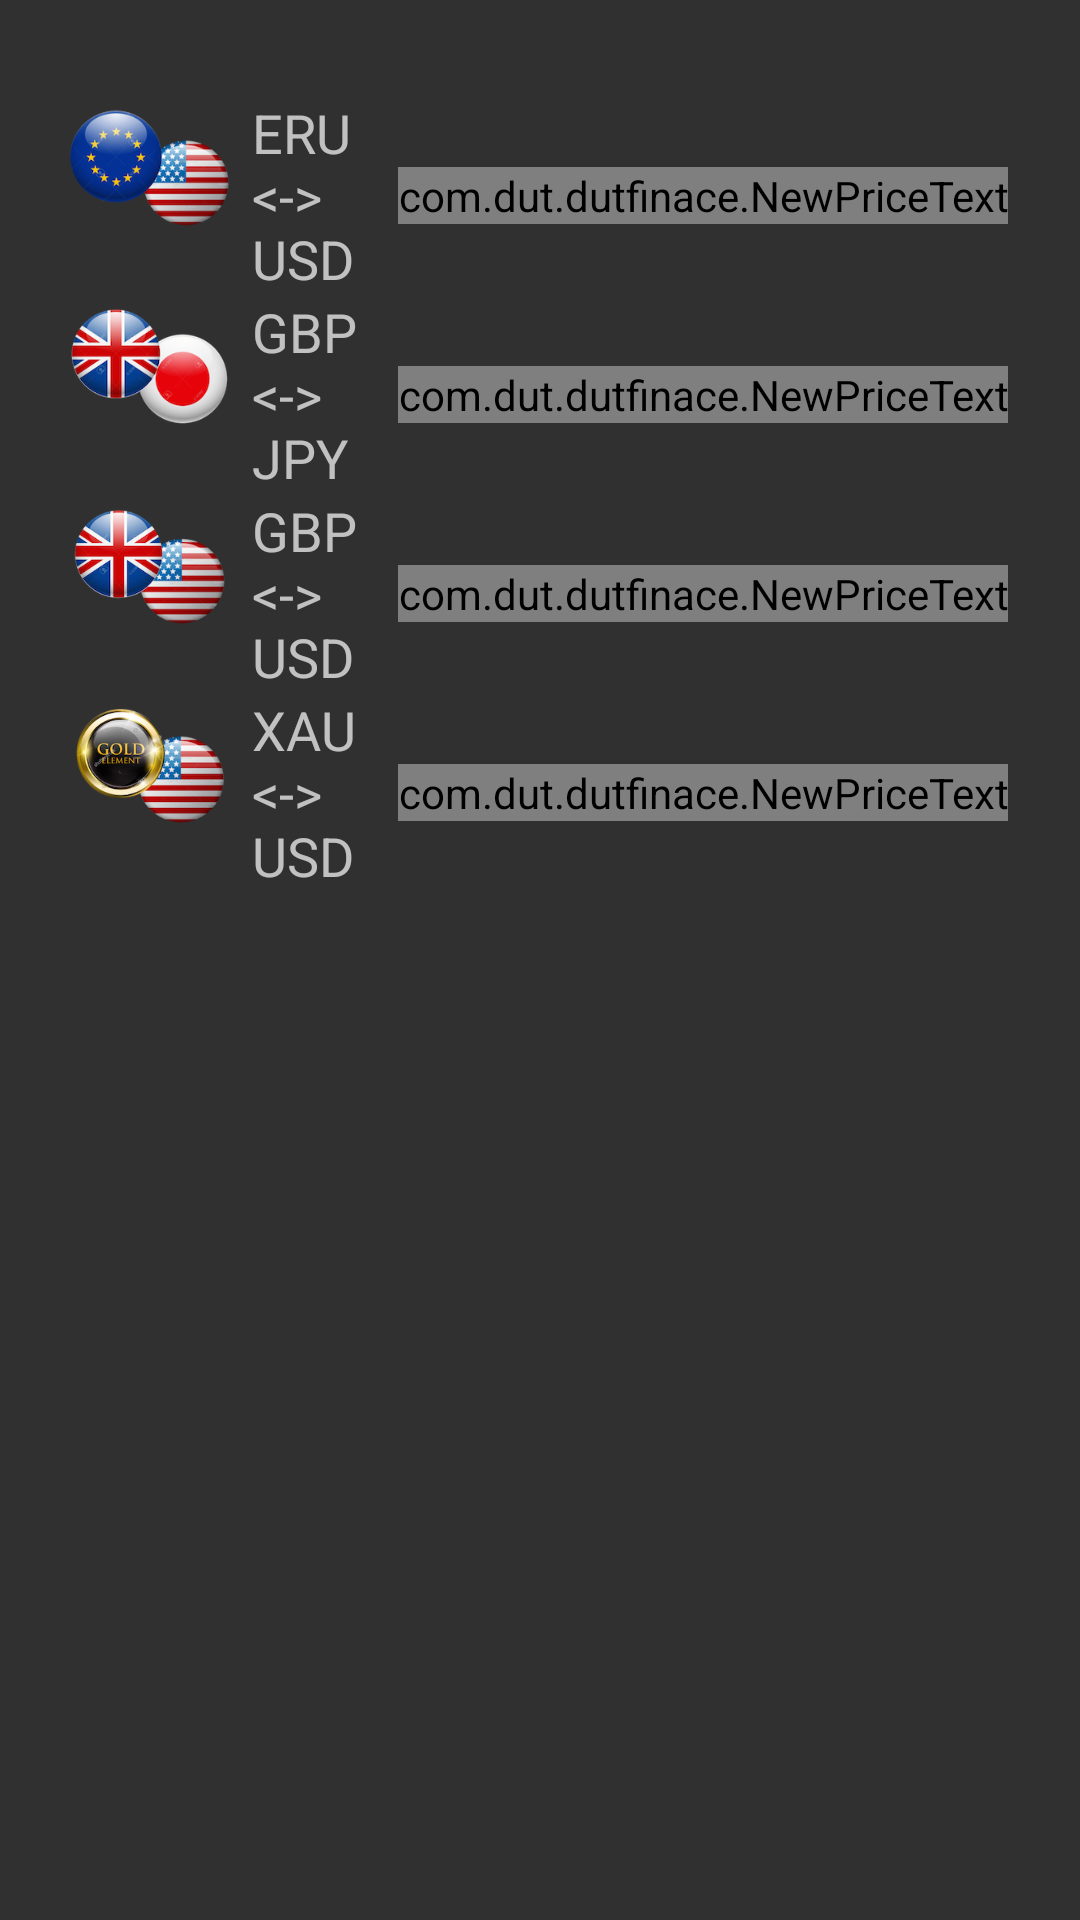

Named icons in this screenshot (1080px×1920px) and their centers, point (x, y):
eupusd: point (149, 167)
usexau: point (150, 765)
